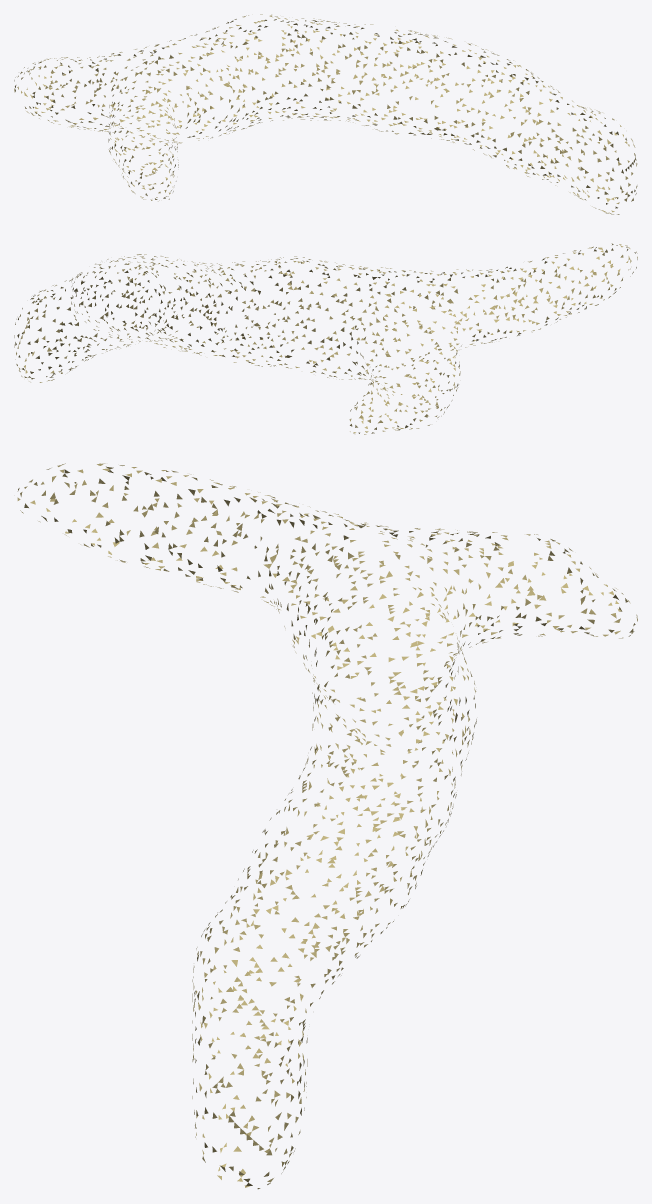
The model's file is morph_008.glb.
3 renders of one model, top to bottom at view 1: azimuth 30°, elevation 25°; view 2: azimuth 150°, elevation 25°; view 3: azimuth 270°, elevation 25°, orthographic. The views are drawn at different scales.
Bounding box in the file's own units: 98.27 × 39.24 × 63.22.
